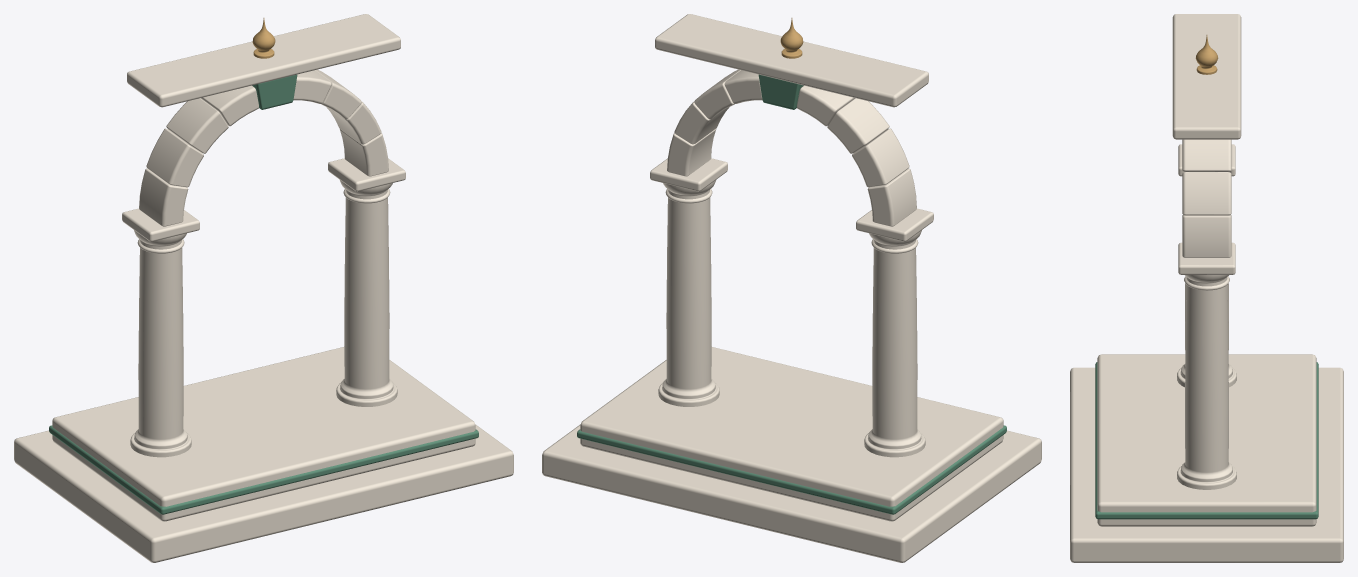
Rendered from gate.glb.
3 views of the same model, side by side, from view 1: azimuth 30°, elevation 25°; view 2: azimuth 150°, elevation 25°; view 3: azimuth 270°, elevation 25° (orthographic). The views are drawn at different scales.
Visible parts, largest first — view 1: ShrineGateMesh; view 2: ShrineGateMesh; view 3: ShrineGateMesh.
Part boxes in pixels (bbox=[...]): ShrineGateMesh: bbox=[14, 14, 513, 562]; ShrineGateMesh: bbox=[542, 14, 1041, 562]; ShrineGateMesh: bbox=[1070, 14, 1343, 562].
Size of the model in its own units: 3 by 3.58 by 2.
